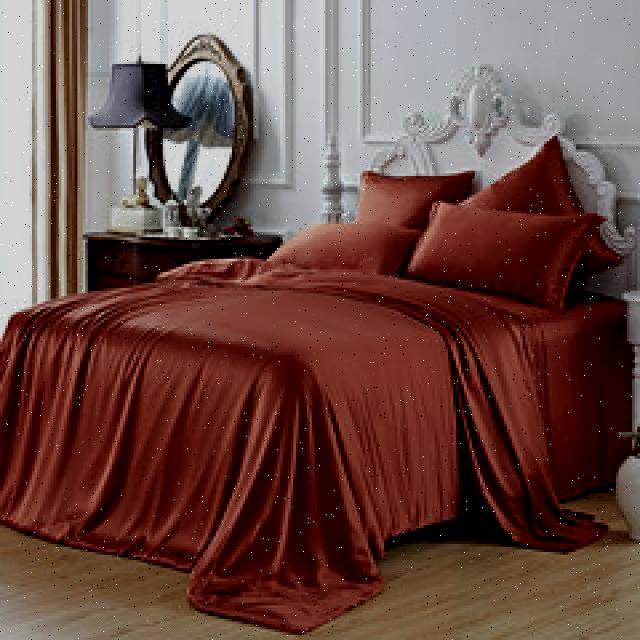bed: (0, 129, 629, 568)
